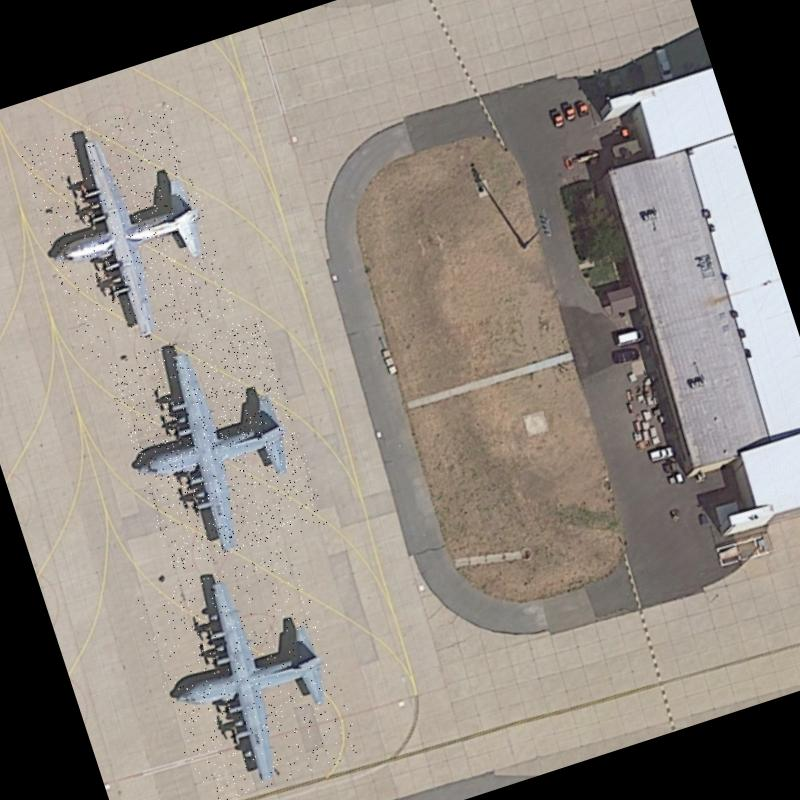A2: (134, 544, 364, 800), (103, 313, 328, 574), (17, 100, 238, 361)
